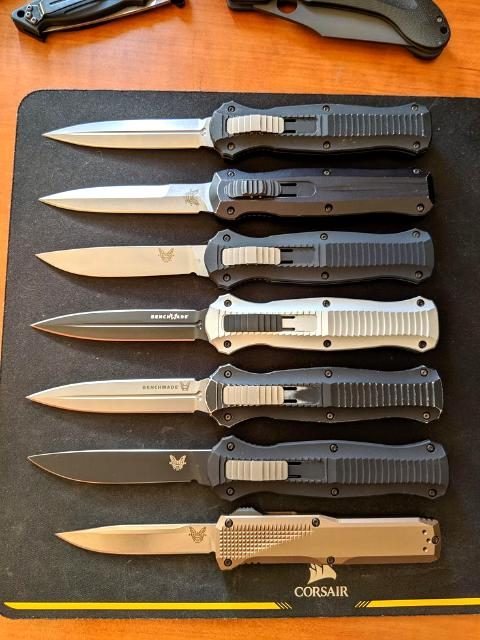pocket-knife: (23, 430, 453, 510), (26, 360, 448, 432), (23, 292, 444, 361), (50, 503, 446, 575), (31, 227, 438, 295), (36, 95, 440, 161), (34, 162, 437, 228)
